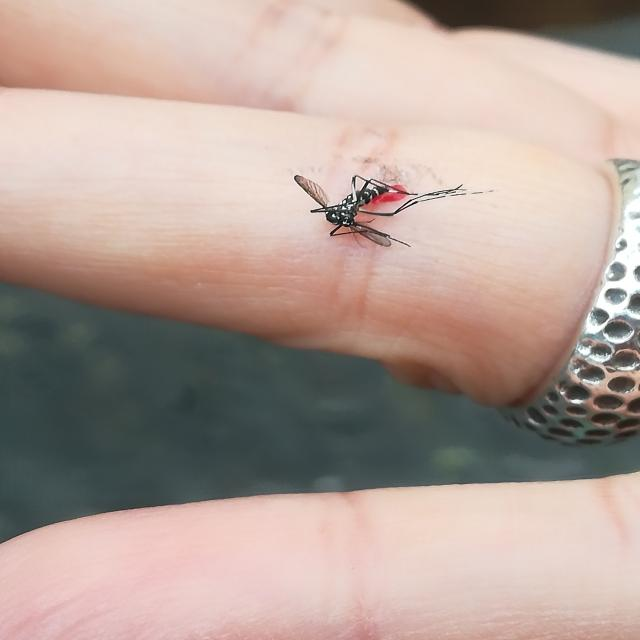albopictus: (293, 162, 487, 253)
